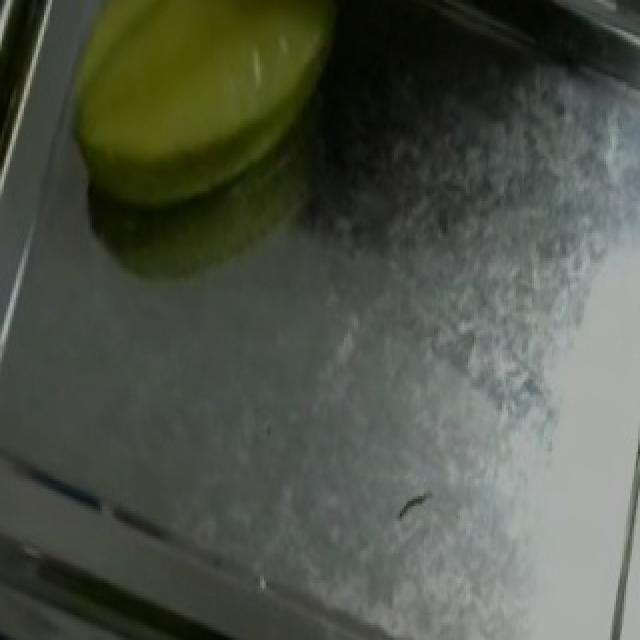fruit: (30, 0, 364, 241)
